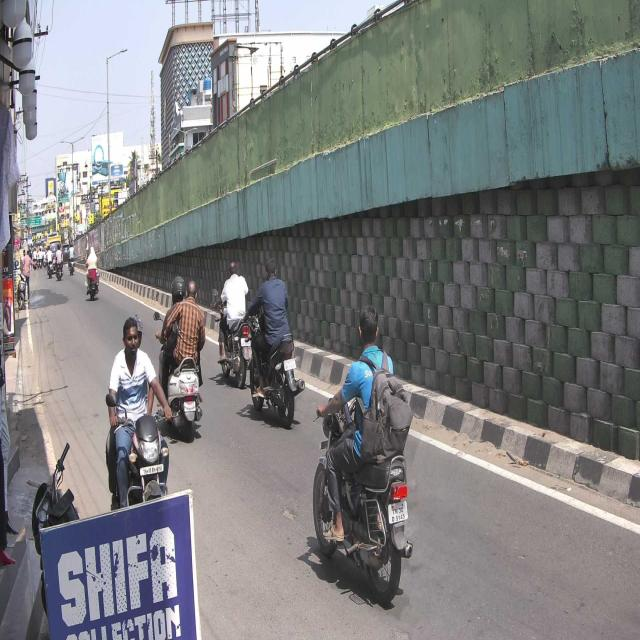double_rider: (105, 310, 155, 514), (158, 275, 206, 440)
single_rider: (312, 304, 415, 606), (250, 254, 301, 427)
